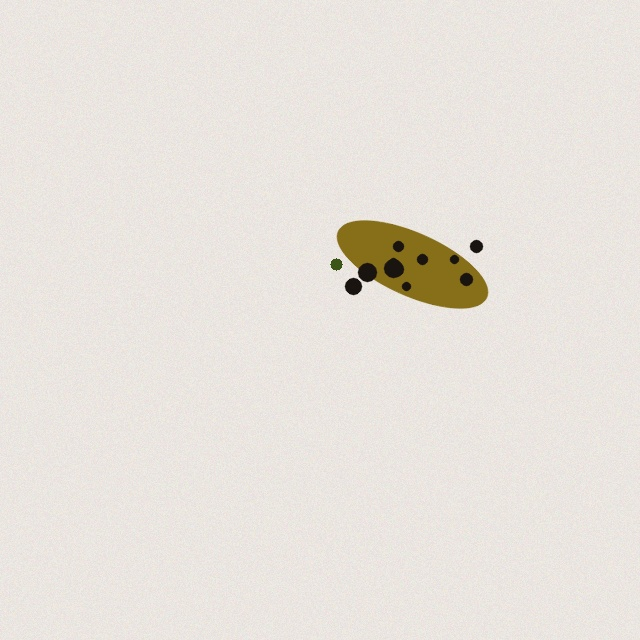Rotten banana: (327, 226, 497, 302)
